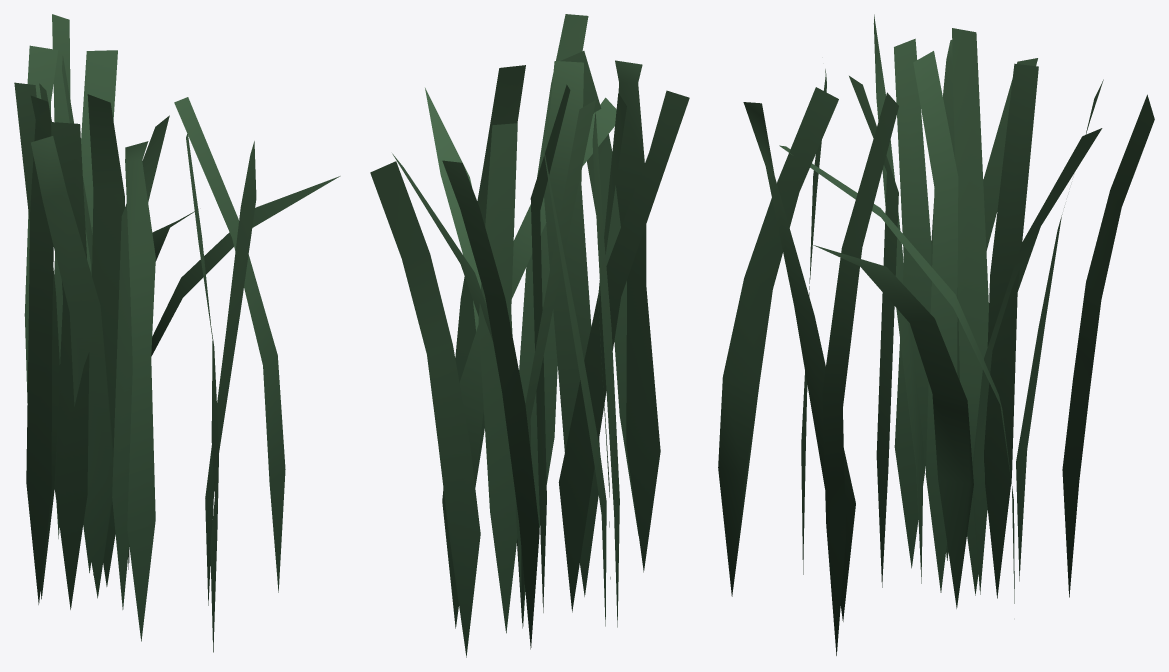
File: trees-grasses-tall-grass_v10.glb
3 renders of one model, left to right at view 1: azimuth 30°, elevation 25°; view 2: azimuth 150°, elevation 25°; view 3: azimuth 270°, elevation 25°, orthographic. The views are drawn at different scales.
Parts seen in each view (by area): view 1: Tall Grass_v10; view 2: Tall Grass_v10; view 3: Tall Grass_v10.
Boxes of the visible parts, <box> form: Tall Grass_v10: <box>14,14,340,652</box>; Tall Grass_v10: <box>370,14,689,657</box>; Tall Grass_v10: <box>718,14,1154,655</box>.
Size of the model in its own units: 0.2897 by 0.5 by 0.3673.
